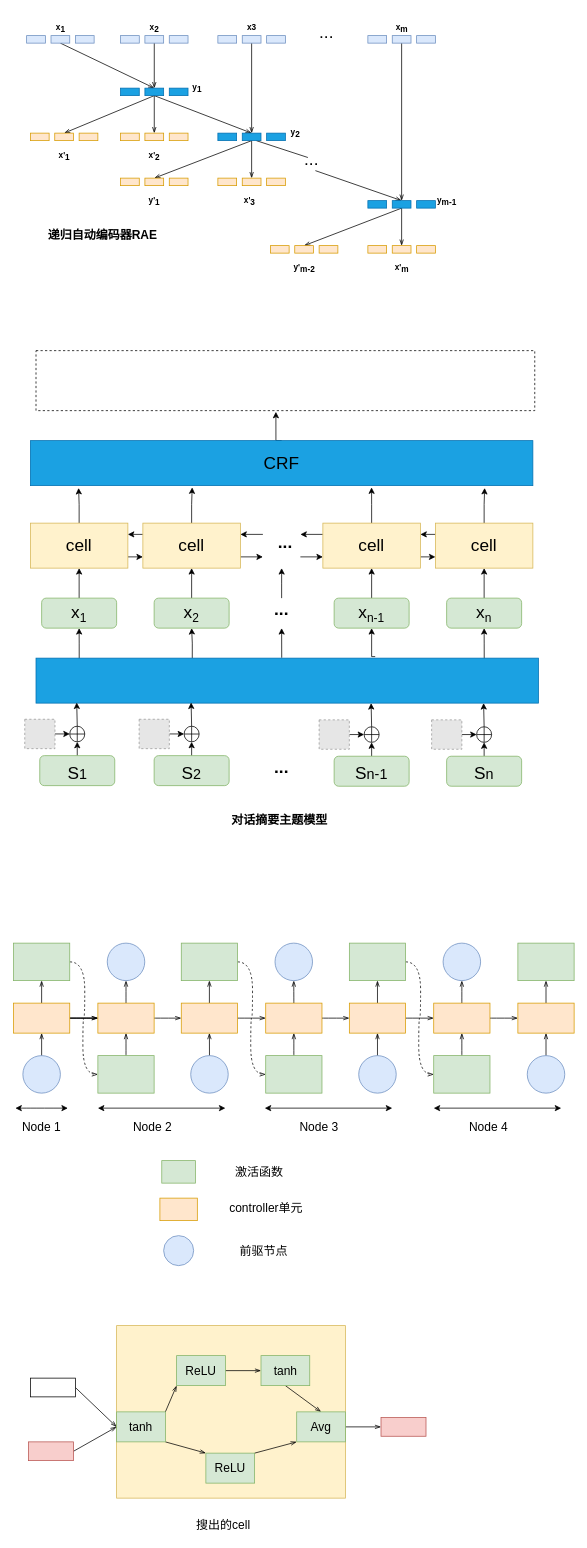
Some shapes in this 587 by 1548 pixel diagram are drawn without their labels. Grey dashed boxes stand in for pictures. Here are the shapes that lost their labels. From the top down, the box of each, then its label:
(35, 350, 535, 411): B-SECTION M-SECTION I-SECTION
(35, 657, 538, 703): RAE
(30, 1377, 75, 1397): x[t]
(380, 1417, 426, 1436): h[t]
(28, 1441, 74, 1461): h[t-1]
